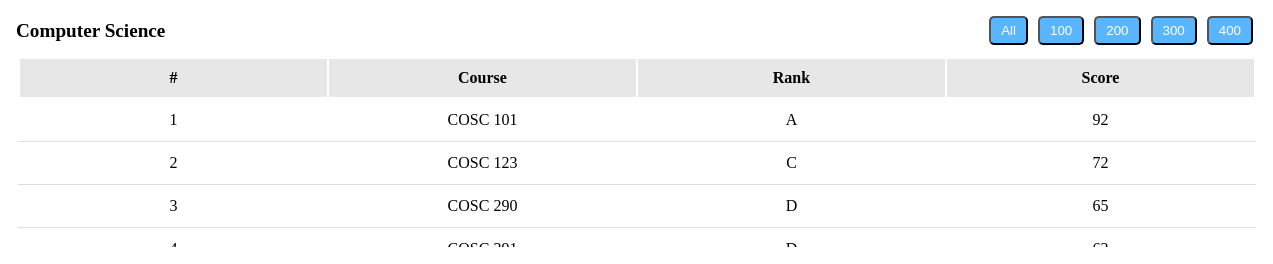
Test case: DeptDivisionTable › Testing filter courses by clicking year number 100
Click the button "100". click: [1061, 31]
box: top-left (1038, 16), bottom-right (1084, 45)
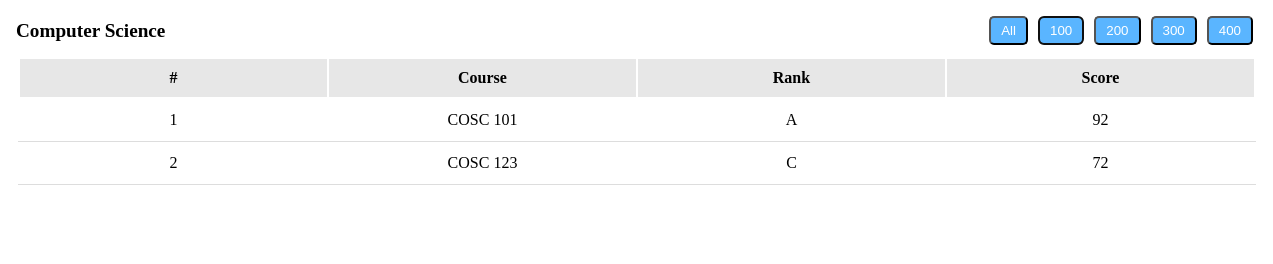
Expected: the element with id "division-table-test-content" shows "COSC 101", top-left (448, 111), bottom-right (517, 128)
Expected: the number of rows is 3, top-left (20, 59), bottom-right (1254, 97); top-left (18, 99), bottom-right (1256, 142); top-left (18, 142), bottom-right (1256, 185)
